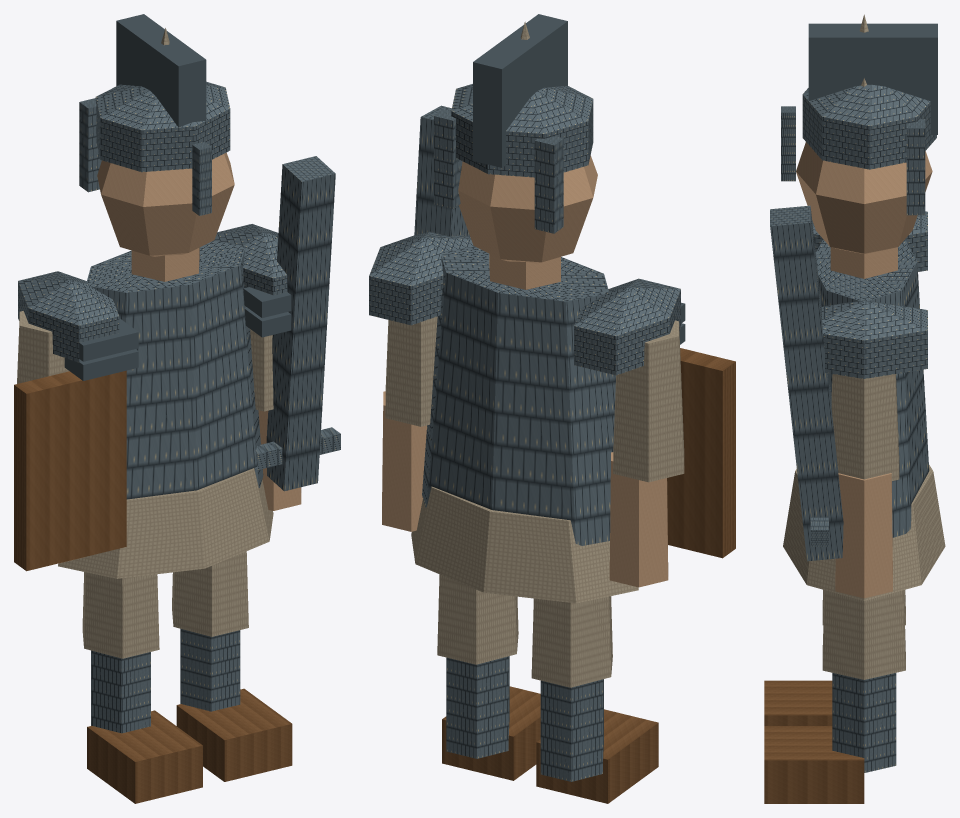
The model's file is unit-SWORD-lod1.glb.
3 renders of one model, left to right at view 1: azimuth 30°, elevation 25°; view 2: azimuth 150°, elevation 25°; view 3: azimuth 270°, elevation 25°, orthographic. The views are drawn at different scales.
Bounding box in the file's own units: 0.207 × 0.448 × 0.098.
1 material, 1 textured.
